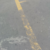others: (14, 2, 43, 49)
